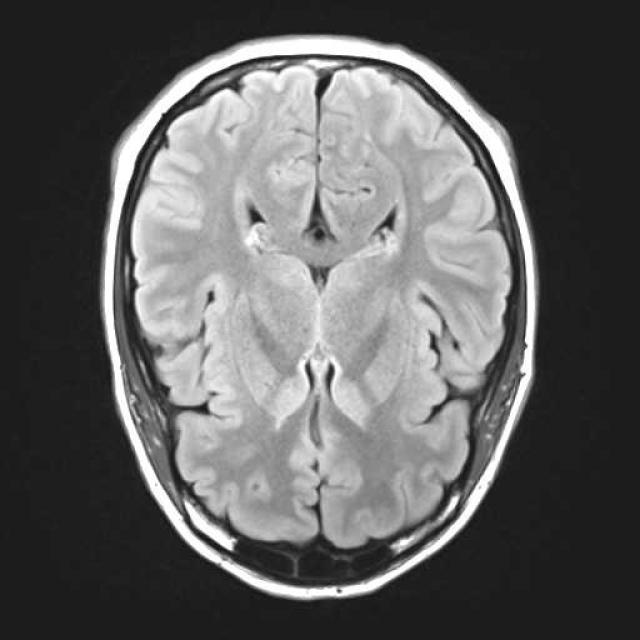no-tumor: (194, 134, 440, 452)
